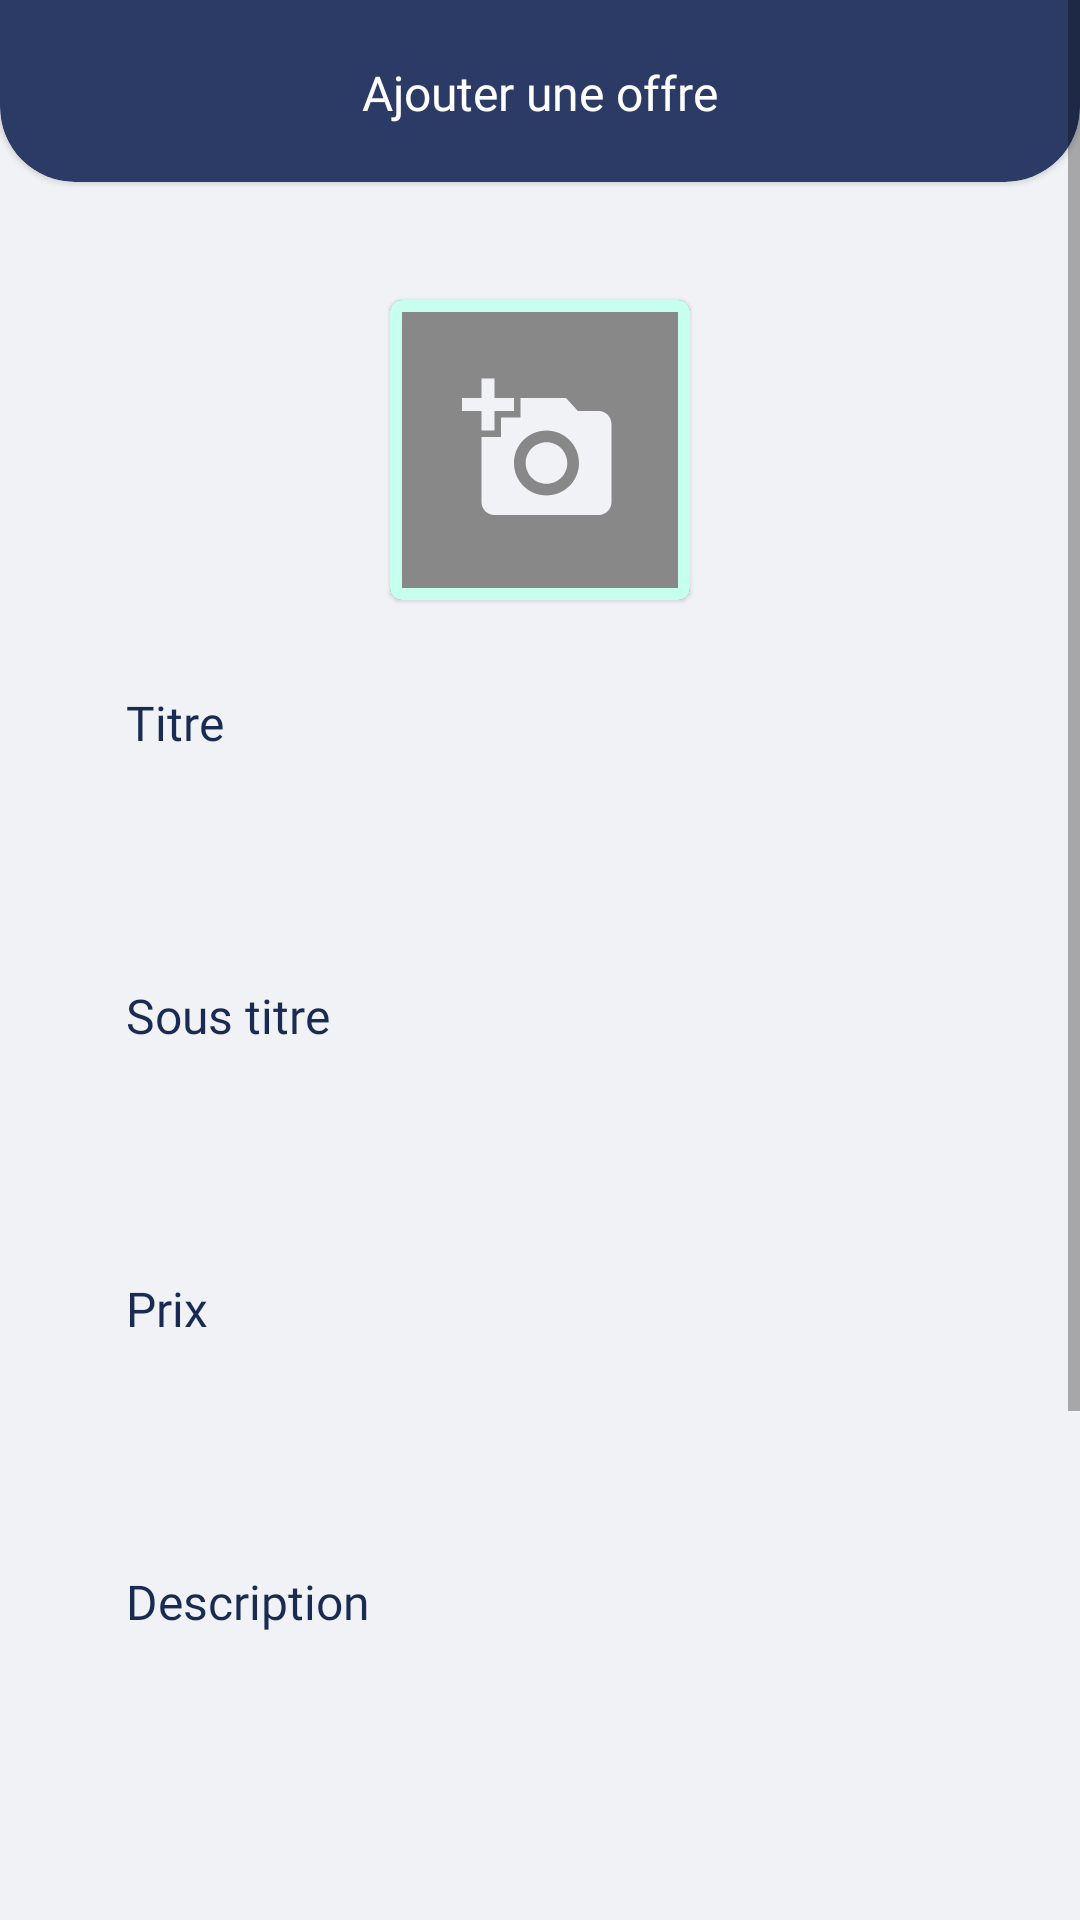

Icons on this 1080x1920 Android screen, each with the point to tap as (x=x, y=y):
add photo: (x=540, y=450)
